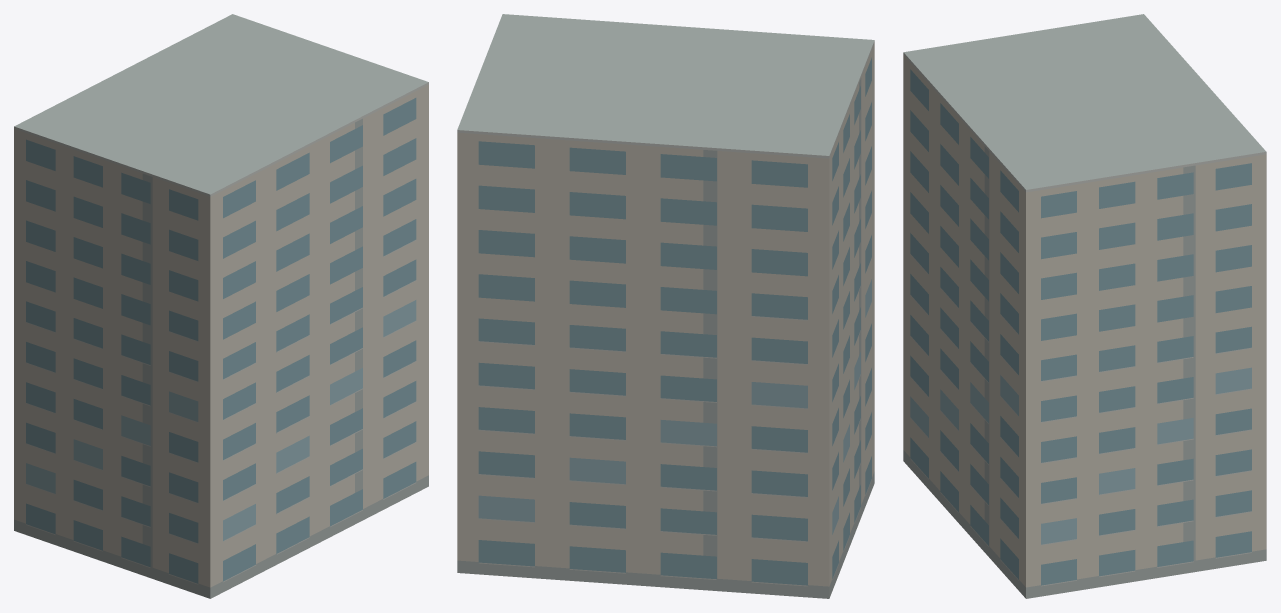
File: residential-7bdb2b44-1233-483f-a28c-7b179a521d34.glb
3 views of the same model, side by side, from view 1: azimuth 30°, elevation 25°; view 2: azimuth 150°, elevation 25°; view 3: azimuth 270°, elevation 25° (orthographic). The views are drawn at different scales.
Parts seen in each view (by area): view 1: residential-7bdb2b44-1233-483f-a28c-7b179a521d34.tmp; view 2: residential-7bdb2b44-1233-483f-a28c-7b179a521d34.tmp; view 3: residential-7bdb2b44-1233-483f-a28c-7b179a521d34.tmp.
Boxes of the visible parts, x1,y1,x2,y2 form: residential-7bdb2b44-1233-483f-a28c-7b179a521d34.tmp: (14, 14, 428, 598); residential-7bdb2b44-1233-483f-a28c-7b179a521d34.tmp: (457, 14, 874, 598); residential-7bdb2b44-1233-483f-a28c-7b179a521d34.tmp: (903, 14, 1266, 598).
Bounding box in the file's own units: 37.84 × 41 × 33.
